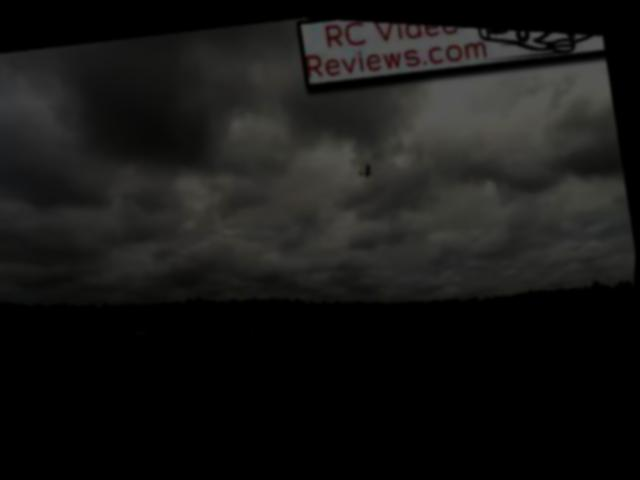uav: (350, 148, 380, 181)
